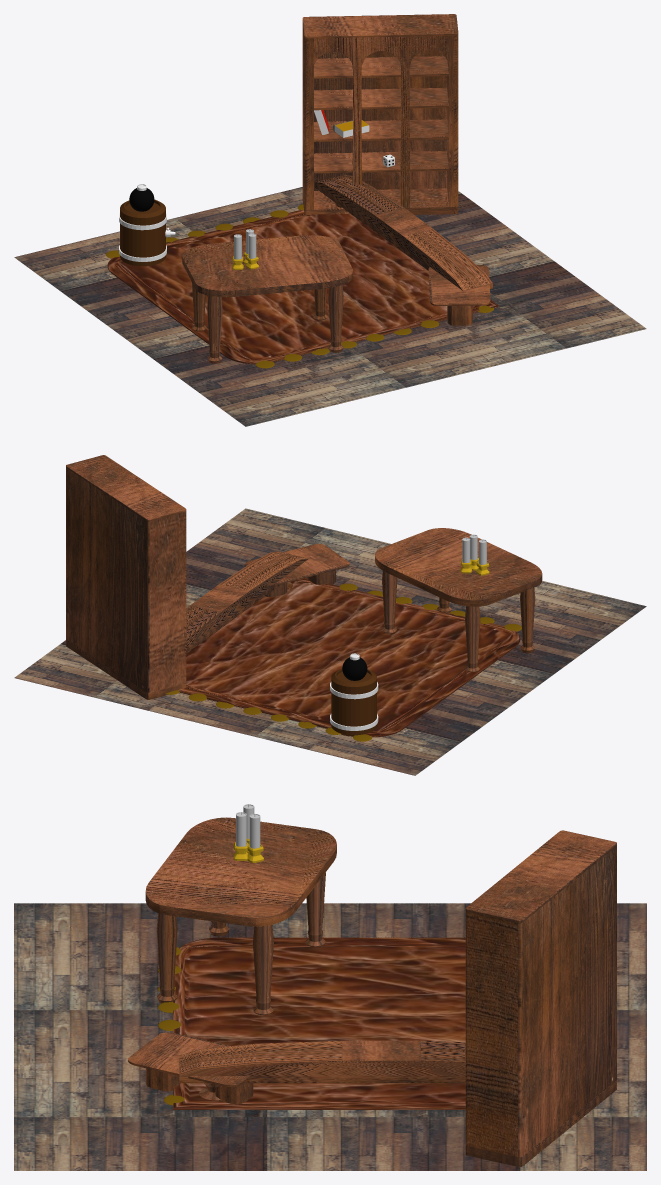
The model's file is PirateRoom.glb.
3 renders of one model, top to bottom at view 1: azimuth 30°, elevation 25°; view 2: azimuth 150°, elevation 25°; view 3: azimuth 270°, elevation 25°, orthographic. The views are drawn at different scales.
Visible parts, largest first — view 1: Floor, Bookshelf, Chair.009, Table, Chair.006, Barrel, Table 0.1, Chair.011, Candle; view 2: Floor, Chair.009, Bookshelf, Table, Chair.006, Barrel, Table 0.1, Chair.011, Candle, Sphere; view 3: Floor, Bookshelf, Chair.009, Table, Chair.006, Table 0.1, Candle, Chair.011.
Boxes of the visible parts, x1,y1,x2,y2 form: Floor: [14, 187, 646, 426]; Bookshelf: [302, 14, 458, 214]; Chair.009: [107, 209, 499, 364]; Table: [182, 235, 352, 363]; Chair.006: [314, 175, 492, 290]; Barrel: [119, 199, 166, 266]; Table 0.1: [428, 265, 490, 325]; Chair.011: [106, 204, 493, 368]; Candle: [232, 229, 258, 269]; Floor: [14, 508, 646, 775]; Chair.009: [178, 578, 520, 737]; Bookshelf: [66, 455, 186, 699]; Table: [375, 528, 542, 672]; Chair.006: [186, 551, 308, 653]; Barrel: [330, 669, 378, 736]; Table 0.1: [244, 544, 349, 597]; Chair.011: [165, 583, 521, 741]; Candle: [460, 534, 489, 575]; Sphere: [342, 653, 367, 680]; Floor: [14, 903, 646, 1170]; Bookshelf: [465, 830, 616, 1166]; Chair.009: [173, 937, 465, 1109]; Table: [145, 817, 336, 1014]; Chair.006: [179, 1040, 465, 1083]; Table 0.1: [128, 1032, 253, 1104]; Candle: [233, 804, 263, 862]; Chair.011: [158, 947, 184, 1105].
Bounding box in the file's own units: 36.95 × 17.88 × 36.95.
Materials: 16 (5 with a texture image).
